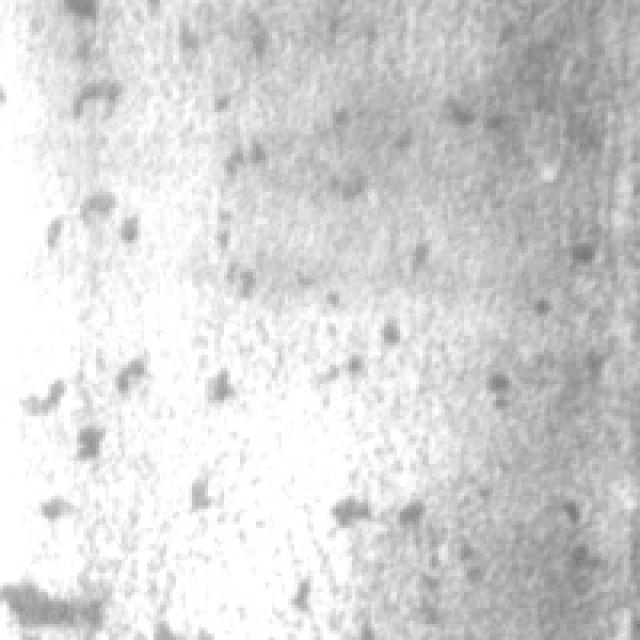pitted_surface: (157, 13, 586, 544), (0, 0, 157, 637)
